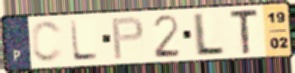2: (151, 13, 182, 59)
C: (30, 20, 66, 65)
L: (193, 10, 228, 58), (68, 18, 100, 62)
P: (110, 15, 146, 61)
T: (229, 7, 261, 56)
